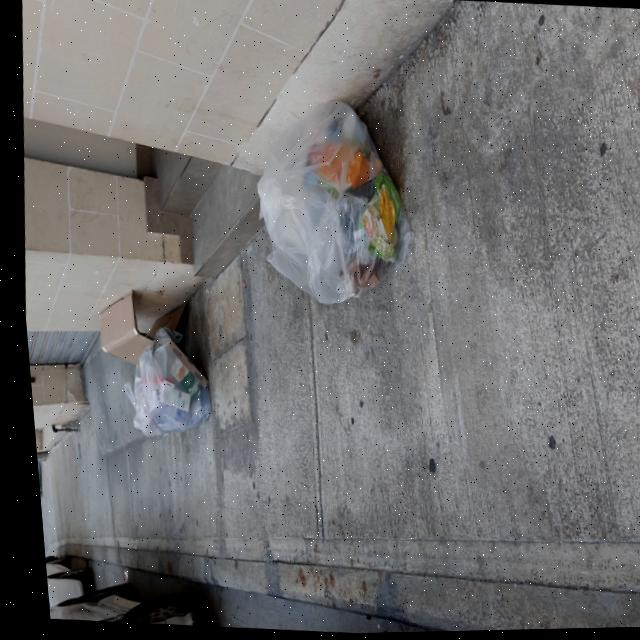Other: (88, 287, 190, 370)
Recycled Waste -Grey or Green Bag-: (242, 97, 423, 313), (110, 322, 212, 442)
